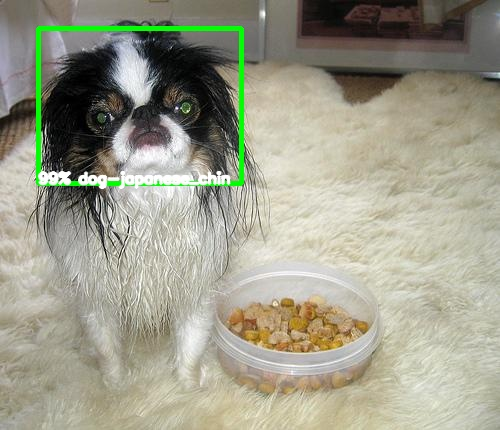dog-japanese_chin: (46, 39, 225, 178)
